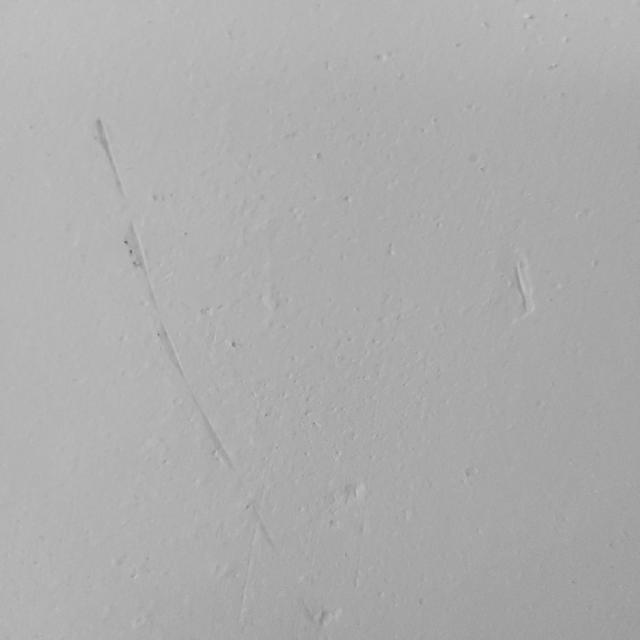rough and patchy surface: (61, 74, 378, 628), (432, 0, 605, 139), (469, 198, 552, 351)
